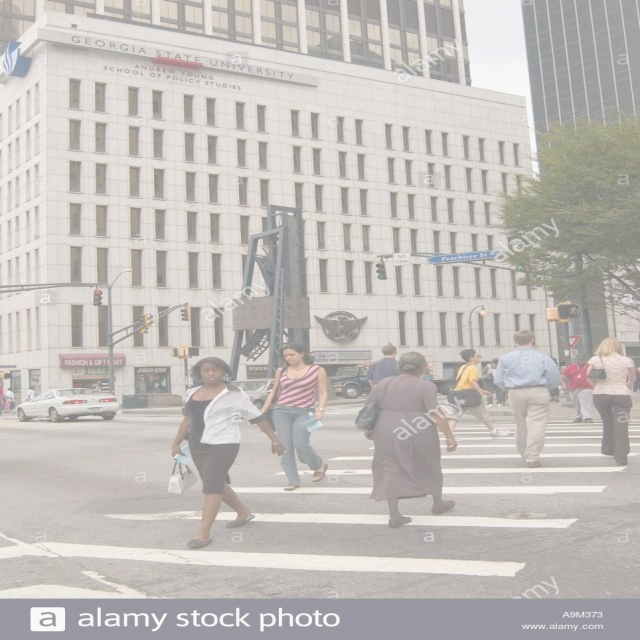pessoa: (164, 356, 288, 548), (352, 351, 459, 528), (260, 343, 328, 491), (492, 328, 562, 469), (584, 336, 638, 466), (442, 348, 512, 443), (557, 352, 598, 424), (365, 342, 403, 390), (480, 358, 504, 408), (548, 357, 560, 402), (136, 376, 166, 392), (5, 387, 18, 412), (258, 378, 274, 394), (90, 378, 104, 394), (632, 366, 640, 394), (0, 381, 6, 417), (2, 396, 12, 414), (26, 386, 36, 402), (500, 391, 510, 406), (424, 366, 432, 380)
